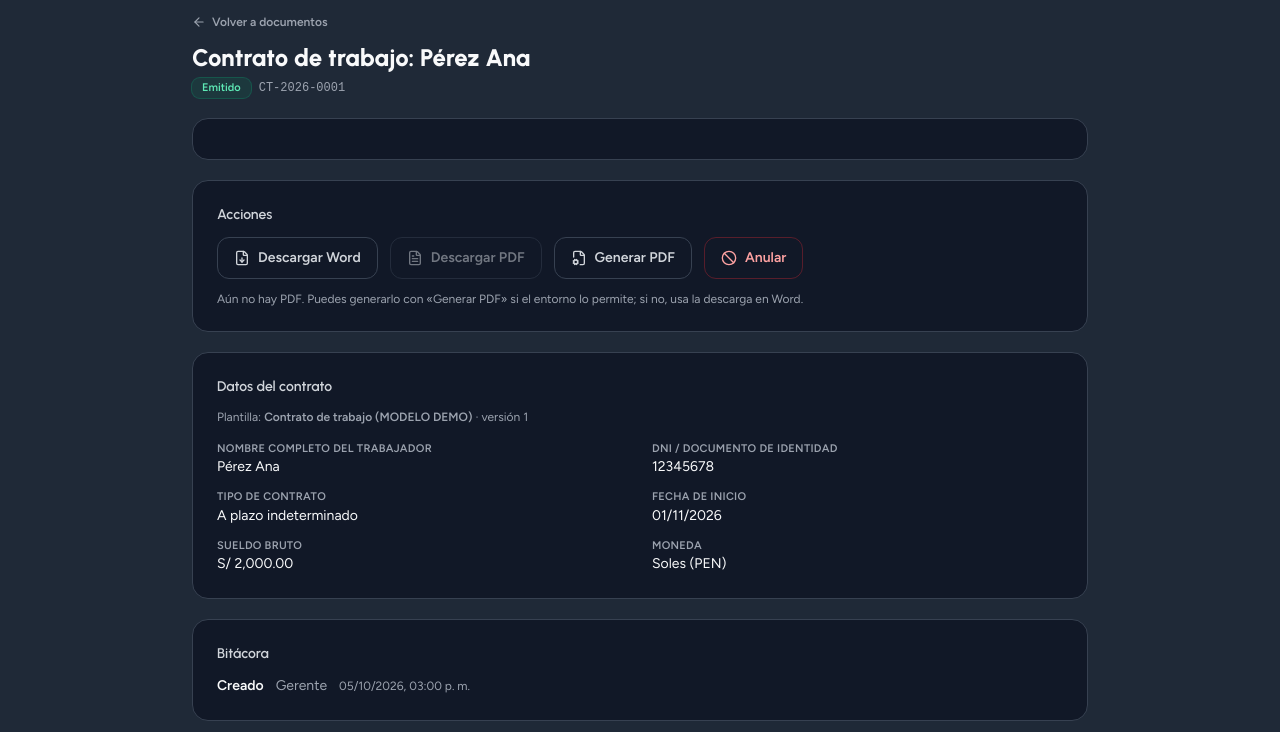
Scenario: HRDocumentDetailPage › Generar PDF › maneja 409 invalid_state con mensaje es-PE
The image size is (1280, 732).
Click the button "Generar PDF": (623, 258) x1=554 y1=237 x2=692 y2=279
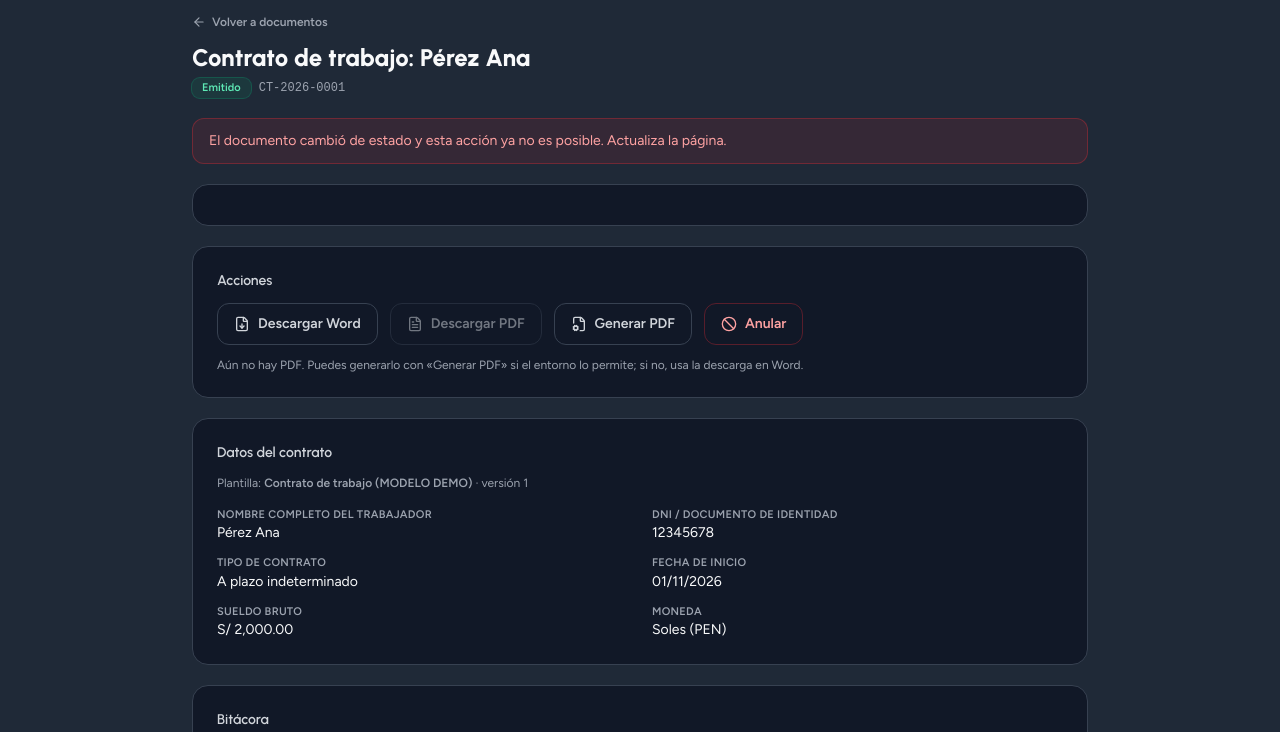
Expected: the button "Generar PDF" is enabled, x1=554 y1=303 x2=692 y2=345
Now the message shows "cambió de estado", box x1=209 y1=132 x2=726 y2=149
